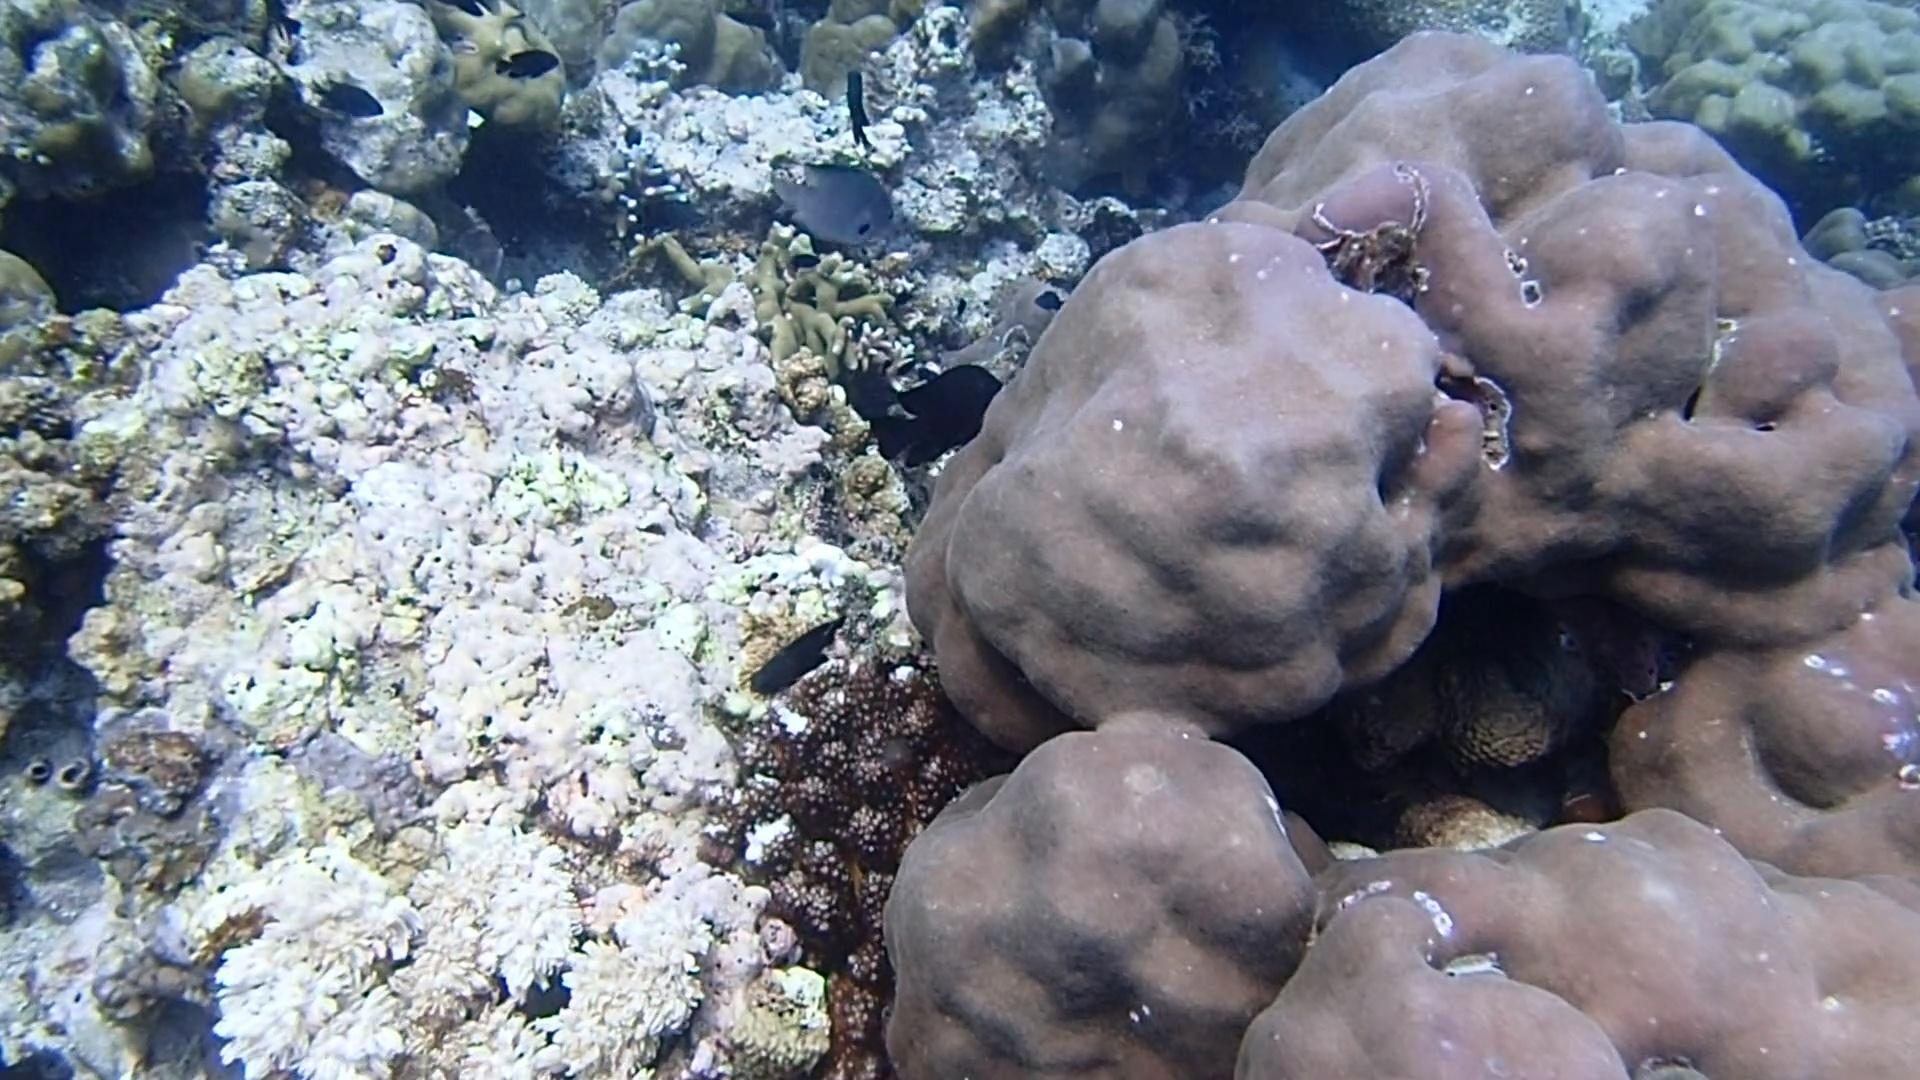Dark Fish: (865, 360, 1017, 465), (746, 609, 852, 698), (309, 71, 392, 128), (630, 189, 708, 244), (835, 62, 878, 157), (492, 40, 564, 90)
Light Fish - Dark Fin: (761, 157, 903, 255)
